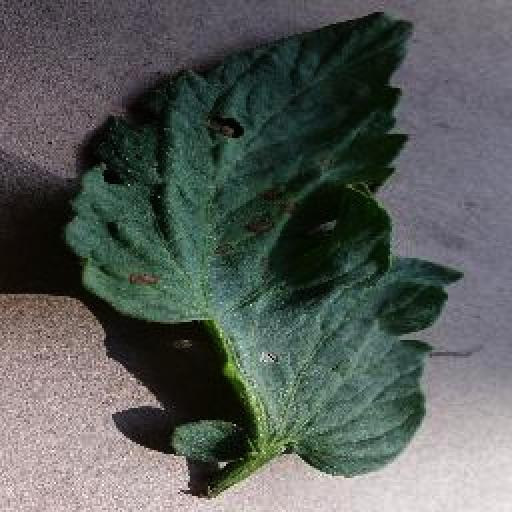disease_tomato: (44, 8, 452, 482)
